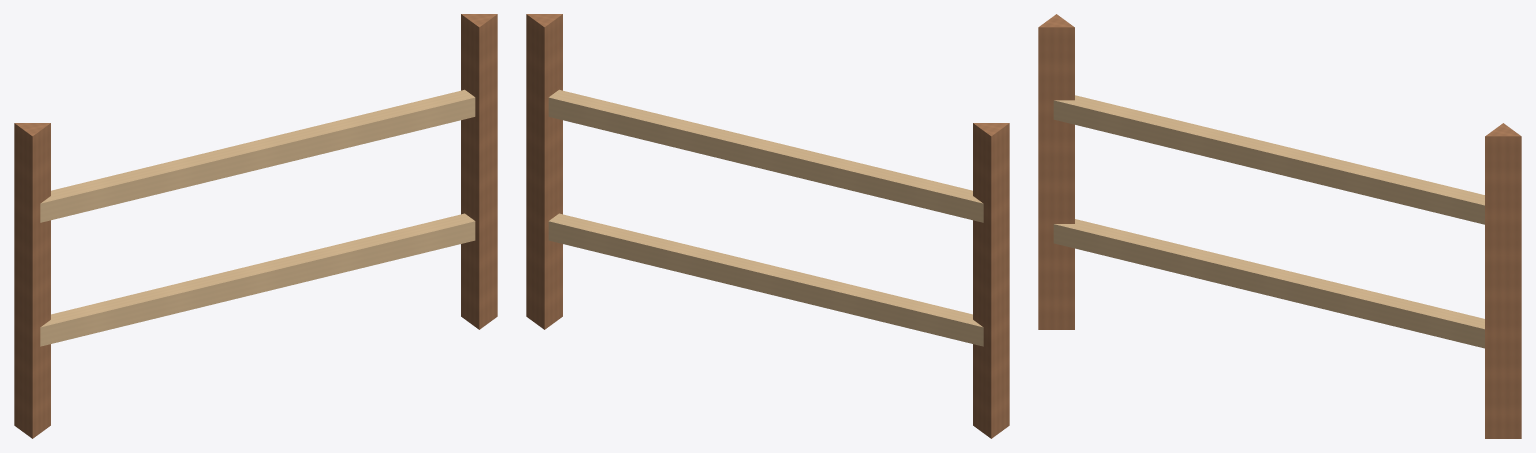
Rendered from atlas100-desertdeco-util04.lod2.glb.
3 views of the same model, side by side, from view 1: azimuth 30°, elevation 25°; view 2: azimuth 150°, elevation 25°; view 3: azimuth 330°, elevation 25° (orthographic).
Visible parts, largest first — view 1: atlas100-desertdeco-util04:part-004, atlas100-desertdeco-util04:part-005, atlas100-desertdeco-util04:part-000, atlas100-desertdeco-util04:part-002; view 2: atlas100-desertdeco-util04:part-004, atlas100-desertdeco-util04:part-005, atlas100-desertdeco-util04:part-000, atlas100-desertdeco-util04:part-002; view 3: atlas100-desertdeco-util04:part-005, atlas100-desertdeco-util04:part-004, atlas100-desertdeco-util04:part-002, atlas100-desertdeco-util04:part-000.
Part boxes in pixels (x1,y1,x2,y2): atlas100-desertdeco-util04:part-004: [40, 213, 475, 346]; atlas100-desertdeco-util04:part-005: [40, 89, 475, 222]; atlas100-desertdeco-util04:part-000: [14, 123, 50, 438]; atlas100-desertdeco-util04:part-002: [461, 14, 497, 329]; atlas100-desertdeco-util04:part-004: [548, 213, 983, 346]; atlas100-desertdeco-util04:part-005: [548, 89, 983, 222]; atlas100-desertdeco-util04:part-000: [973, 123, 1009, 438]; atlas100-desertdeco-util04:part-002: [526, 14, 562, 329]; atlas100-desertdeco-util04:part-005: [1053, 95, 1484, 224]; atlas100-desertdeco-util04:part-004: [1053, 219, 1484, 348]; atlas100-desertdeco-util04:part-002: [1485, 123, 1521, 438]; atlas100-desertdeco-util04:part-000: [1038, 14, 1074, 329].
Bounding box in the file's own units: 1.97 × 1.2 × 0.1324.
Materials: 2 (2 with a texture image).
